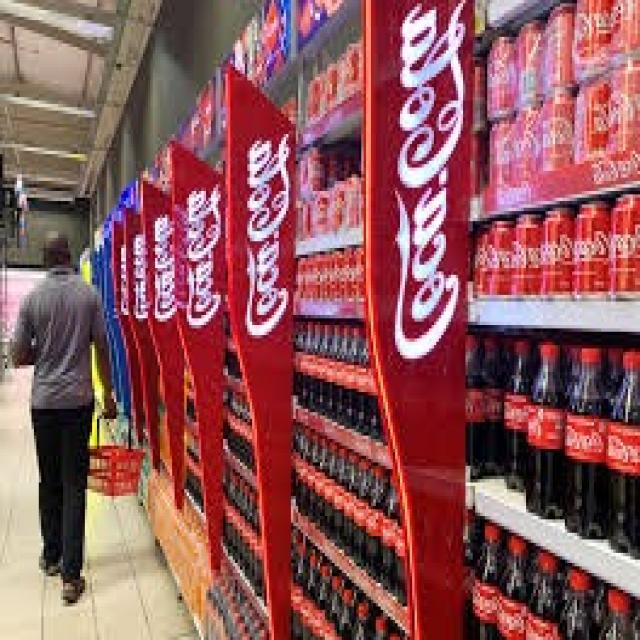coca cola: (377, 0, 468, 380)
